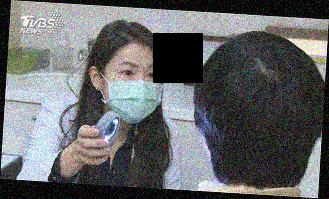with_mask: (105, 60, 165, 126)
